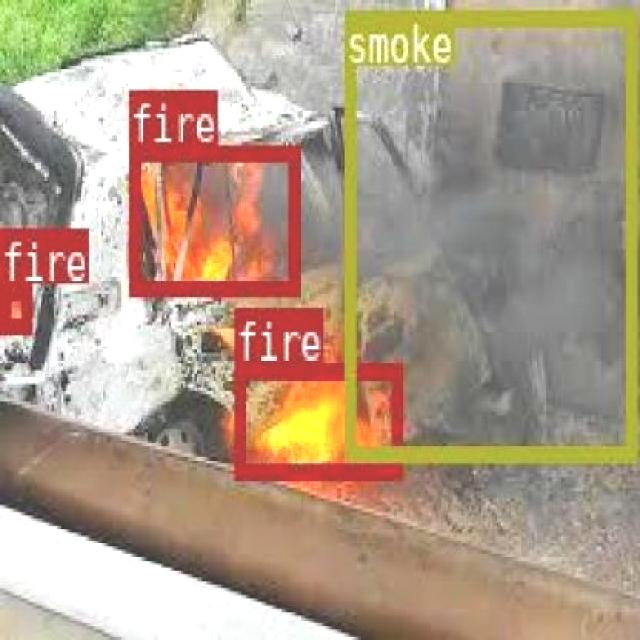fire: (128, 143, 298, 294), (232, 360, 400, 478), (0, 282, 28, 330)
smoke: (343, 9, 634, 458)
